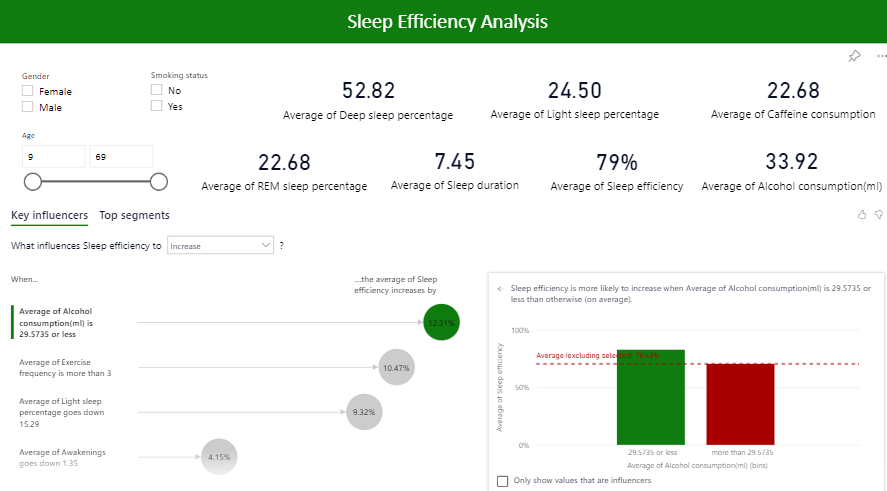

What the dashboard file says about the page in this screenshot:
{"tool":"powerbi","page":{"name":"Page 1","canvas":[1280,720],"ordinal":0},"visuals":[{"type":"shape","title":"ggvhv","box":[0,0,1279.4,62.8],"z":0},{"type":"slicer","fields":{"Values":["Sleep_Efficiency.Gender"]},"box":[20.4,94.9,172.3,84.7],"z":1},{"type":"slicer","fields":{"Values":["Sleep_Efficiency.Age"]},"box":[20.4,182.6,229.3,149],"z":2},{"type":"slicer","fields":{"Values":["Sleep_Efficiency.Smoking status"]},"box":[204.5,93.5,204.5,149],"z":3},{"type":"card","fields":{"Values":["Avg(Sleep_Efficiency.Deep sleep percentage)"]},"box":[381.2,84.7,290.6,108.1],"z":4},{"type":"card","fields":{"Values":["Avg(Sleep_Efficiency.Light sleep percentage)"]},"box":[683.5,62.8,276,150.4],"z":5},{"type":"card","fields":{"Values":["Avg(Sleep_Efficiency.Caffeine consumption)"]},"box":[987.3,73,292.1,130],"z":6},{"type":"card","fields":{"Values":["Avg(Sleep_Efficiency.REM sleep percentage)"]},"box":[265.8,179.6,283.3,119.8],"z":7},{"type":"card","fields":{"Values":["Avg(Sleep_Efficiency.Sleep duration)"]},"box":[527.2,184,245.4,109.5],"z":8},{"type":"card","fields":{"Values":["Avg(Sleep_Efficiency.Alcohol consumption(ml))"]},"box":[990.2,173.8,278.9,131.4],"z":9},{"type":"keyDriversVisual","fields":{"Target":["Sleep_Efficiency.Sleep efficiency"],"ExplainBy":["Avg(Sleep_Efficiency.Light sleep percentage)","Avg(Sleep_Efficiency.Exercise frequency)","Avg(Sleep_Efficiency.Alcohol consumption(ml))","Avg(Sleep_Efficiency.Awakenings)"]},"box":[0,283.3,1279.4,436.7],"z":10},{"type":"card","fields":{"Values":["Avg(Sleep_Efficiency.Sleep efficiency)"]},"box":[766.7,179.6,227.8,119.8],"z":11}]}

Visuals, with their boxes on the page's 1280x720 design canvas (x1, y1, x2, y2). These are canvas units, not pixel positions in the 887x491 screenshot, which may show the page scaled, cropped or inside an application window:
"ggvhv" shape: (x1=0, y1=0, x2=1279, y2=63)
slicer - Sleep_Efficiency.Gender: (x1=20, y1=95, x2=193, y2=180)
slicer - Sleep_Efficiency.Age: (x1=20, y1=183, x2=250, y2=332)
slicer - Sleep_Efficiency.Smoking status: (x1=204, y1=94, x2=409, y2=242)
card - Avg(Sleep_Efficiency.Deep sleep percentage): (x1=381, y1=85, x2=672, y2=193)
card - Avg(Sleep_Efficiency.Light sleep percentage): (x1=684, y1=63, x2=960, y2=213)
card - Avg(Sleep_Efficiency.Caffeine consumption): (x1=987, y1=73, x2=1279, y2=203)
card - Avg(Sleep_Efficiency.REM sleep percentage): (x1=266, y1=180, x2=549, y2=299)
card - Avg(Sleep_Efficiency.Sleep duration): (x1=527, y1=184, x2=773, y2=294)
card - Avg(Sleep_Efficiency.Alcohol consumption(ml)): (x1=990, y1=174, x2=1269, y2=305)
keyDriversVisual - Sleep_Efficiency.Sleep efficiency x Avg(Sleep_Efficiency.Light sleep percentage): (x1=0, y1=283, x2=1279, y2=720)
card - Avg(Sleep_Efficiency.Sleep efficiency): (x1=767, y1=180, x2=994, y2=299)
